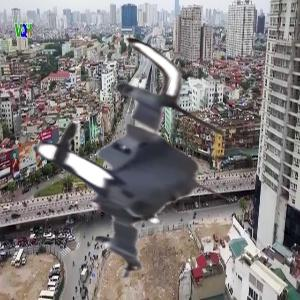drone: (10, 40, 246, 276)
